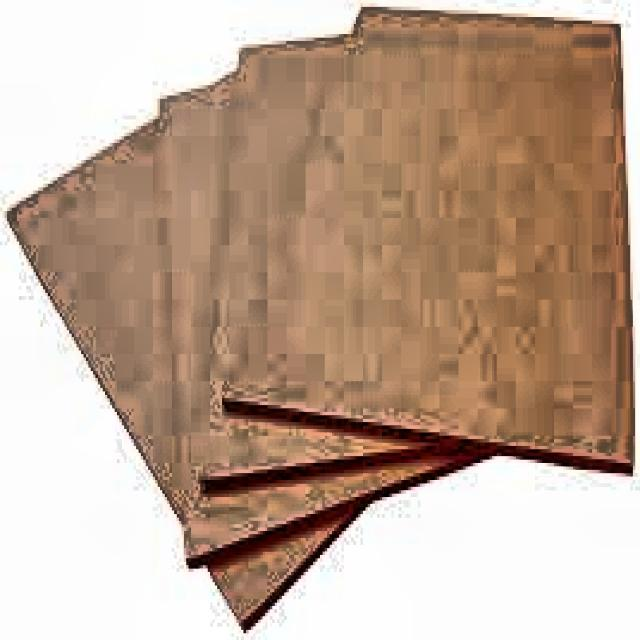cardboard: (2, 0, 633, 620)
